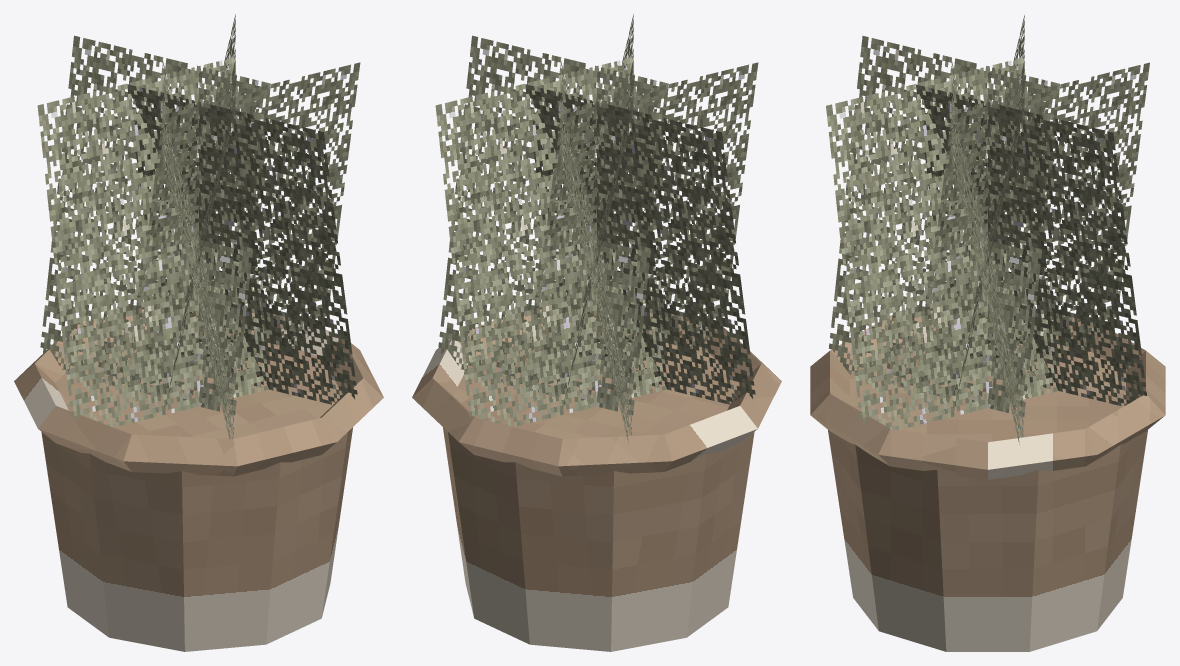
Rendered from flower_pot_e.obj.
3 renders of one model, left to right at view 1: azimuth 30°, elevation 25°; view 2: azimuth 150°, elevation 25°; view 3: azimuth 270°, elevation 25°, orthographic.
Parts seen in each view (by area): view 1: flower_pot_e; view 2: flower_pot_e; view 3: flower_pot_e.
Part boxes in pixels (<box>): flower_pot_e: <box>14,14,383,651</box>; flower_pot_e: <box>412,14,781,651</box>; flower_pot_e: <box>810,15,1165,651</box>.
Bounding box in the file's own units: 0.36 × 0.5463 × 0.3424.
